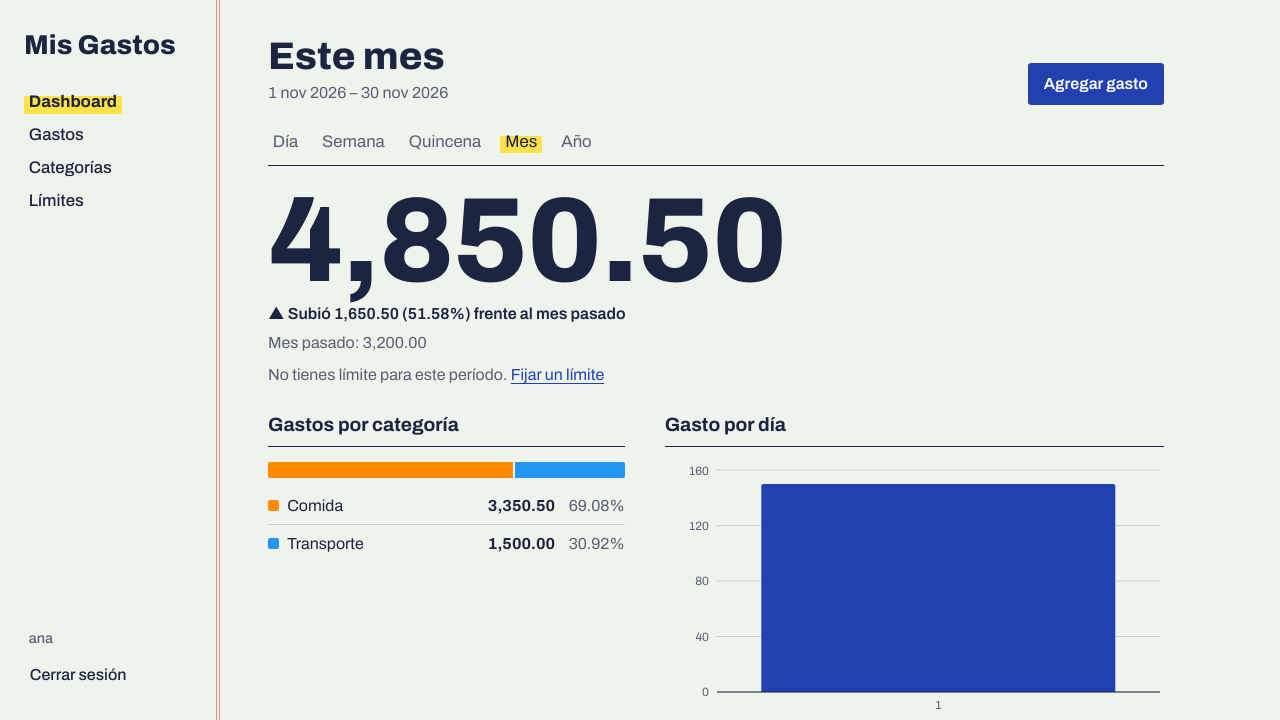
Test: DashboardPage: tabs and periods › the Año tab requests YEAR and is titled "Este año"
Expected: the text "4,850.50" is shown, 268,176 -> 786,306
Click the tab "Año".
click(576, 142)  # box 556,128 -> 596,155
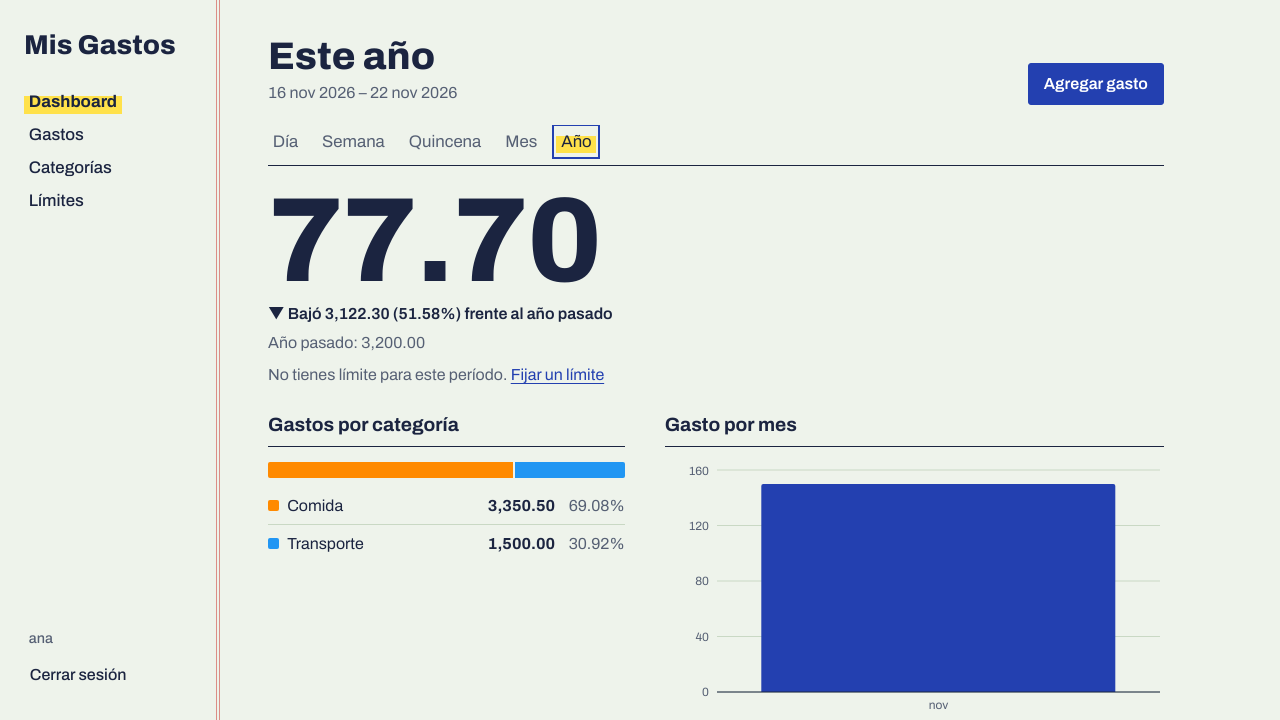
Result: the heading "Este año" is shown at 268,36 -> 457,76
Result: the text with test id "total-spent" reads "77.70" at 268,176 -> 601,306
Result: the text "16 nov 2026 – 22 nov 2026" is shown at 268,81 -> 457,105
